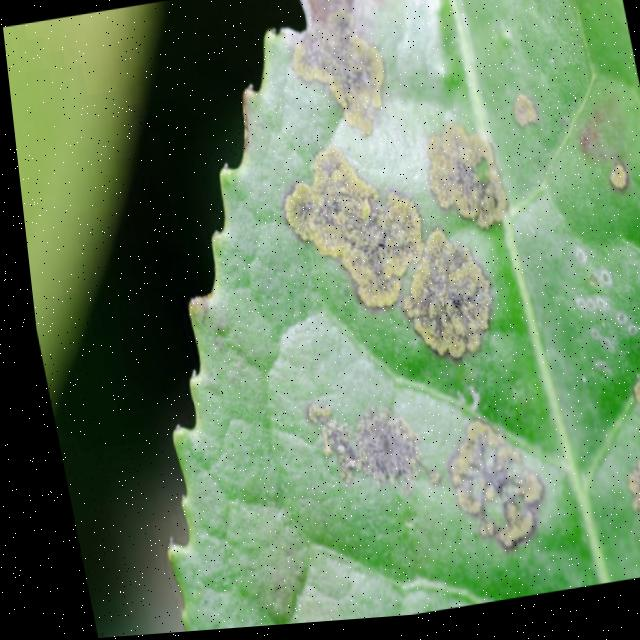Tea red rust: (242, 0, 640, 586)
